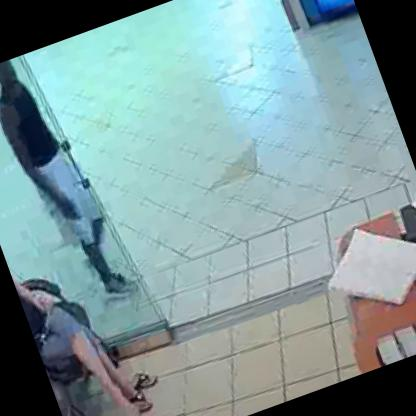Human Body: (0, 45, 134, 308)
